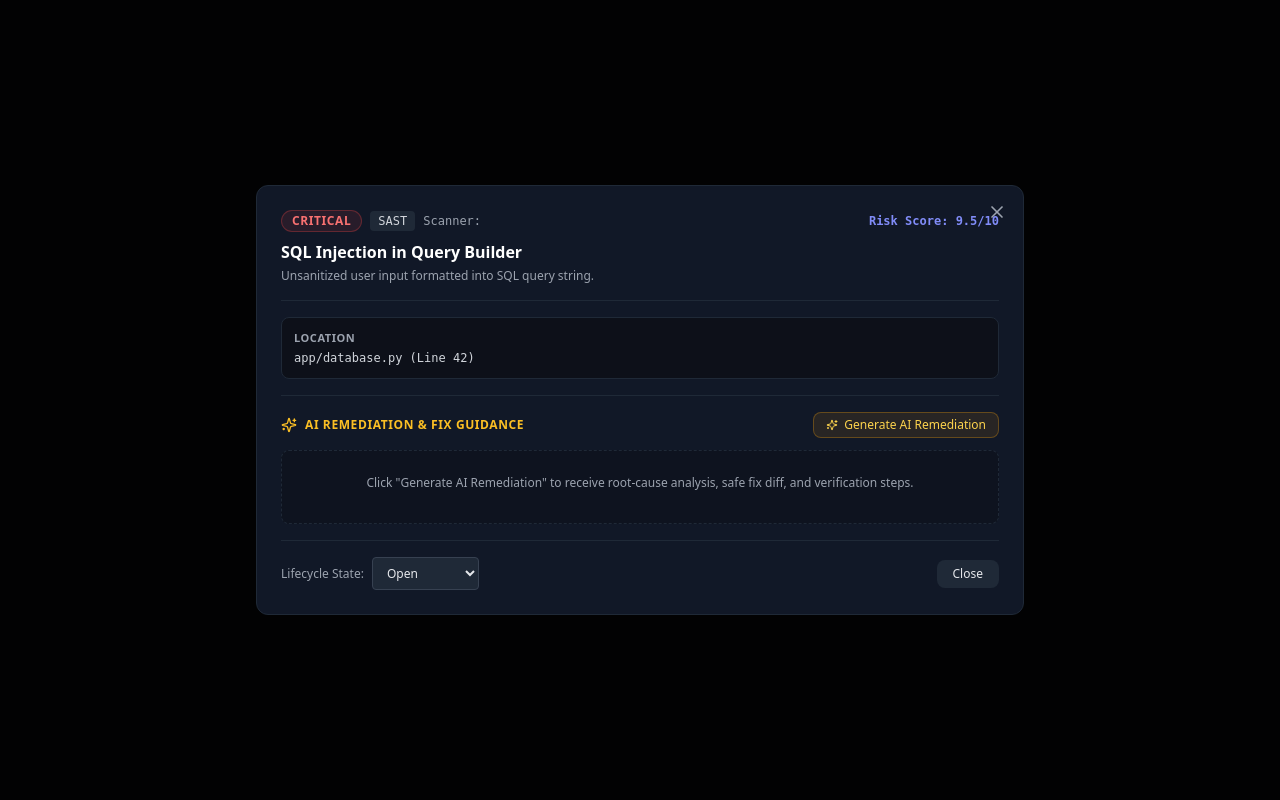
State Synchronization & AI Remediation › 4. Handles AI generation API failure and shows an appropriate error banner
Click the button "Generate AI Remediation": (906, 425) [813,412,999,438]
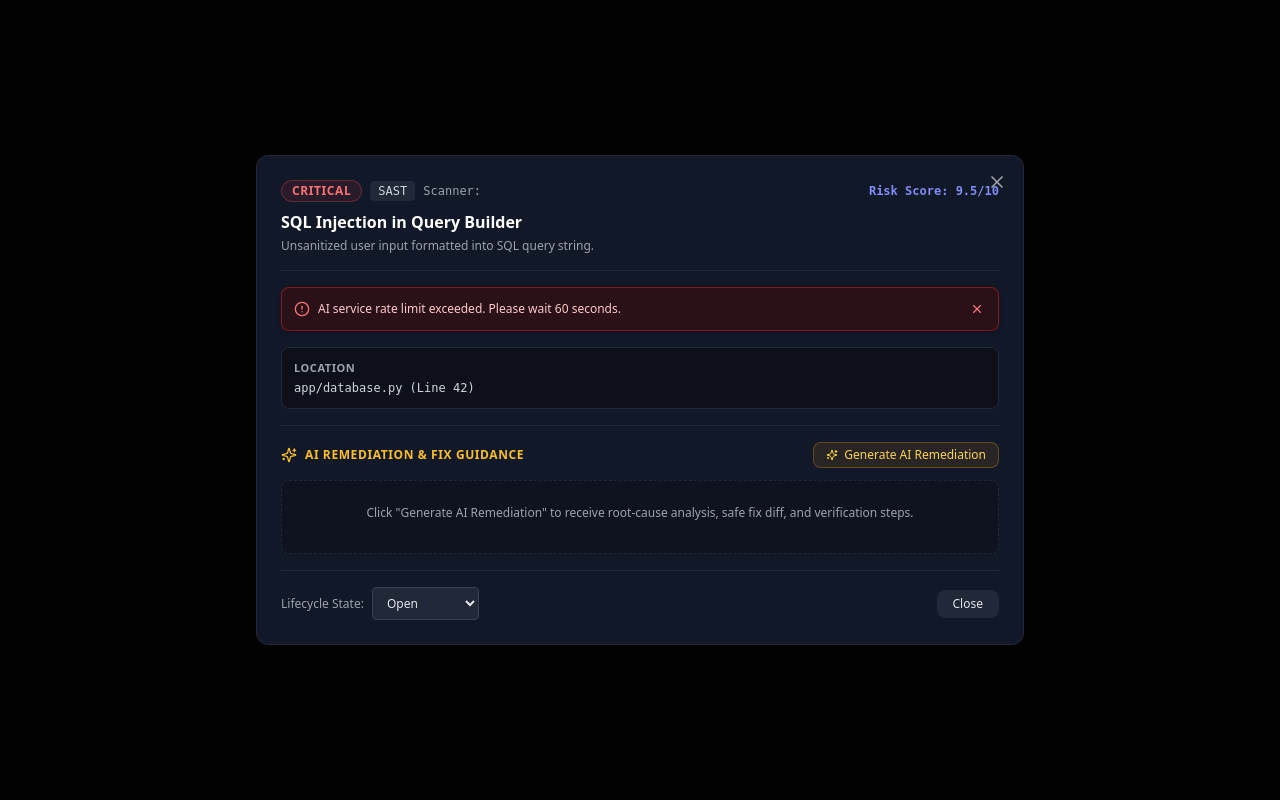
Check: the message shows "AI service rate limit exceeded", box [318,300,621,317]
